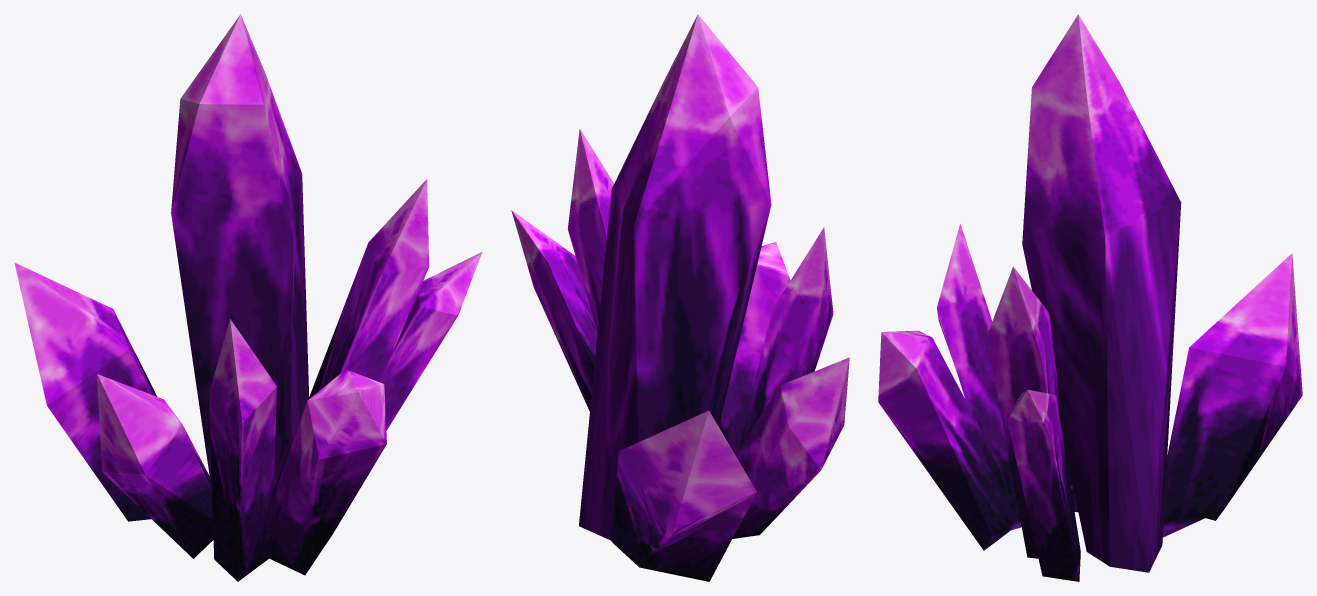
File: merccrystal_ddb3d8dd.glb
The picture shows the model from 3 angles, left to right: view 1: azimuth 30°, elevation 25°; view 2: azimuth 150°, elevation 25°; view 3: azimuth 270°, elevation 25°; orthographic projection. The views are drawn at different scales.
Size of the model in its own units: 1.57 by 2.22 by 1.58.
Materials: 1 (1 with a texture image).
